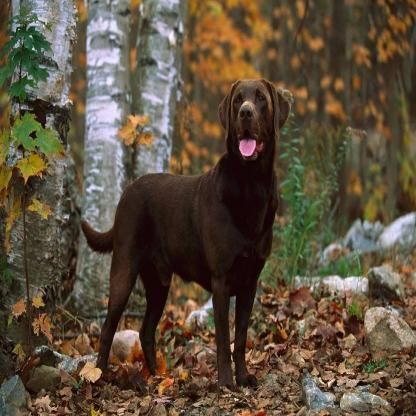Labarador Retriever: (78, 78, 290, 394)
